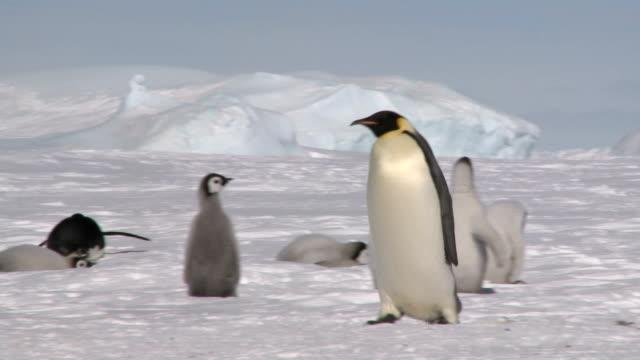emporer: (334, 102, 478, 331)
